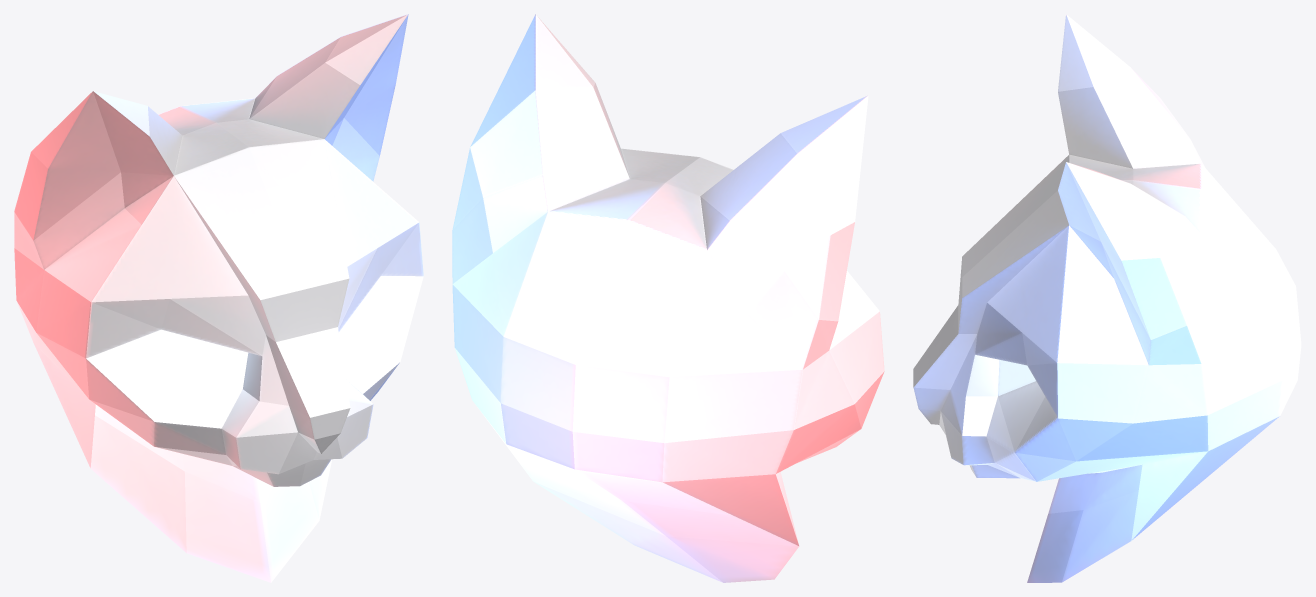
File: cat.glb
3 views of the same model, side by side, from view 1: azimuth 30°, elevation 25°; view 2: azimuth 150°, elevation 25°; view 3: azimuth 270°, elevation 25° (orthographic). The views are drawn at different scales.
Parts seen in each view (by area): view 1: catB.001; view 2: catB.001; view 3: catB.001.
Boxes of the visible parts, left/top/right/bottom form: catB.001: left=14, top=14, right=423, bottom=582; catB.001: left=452, top=14, right=884, bottom=582; catB.001: left=913, top=14, right=1301, bottom=582.
Size of the model in its own units: 2.36 by 3.23 by 2.3.
